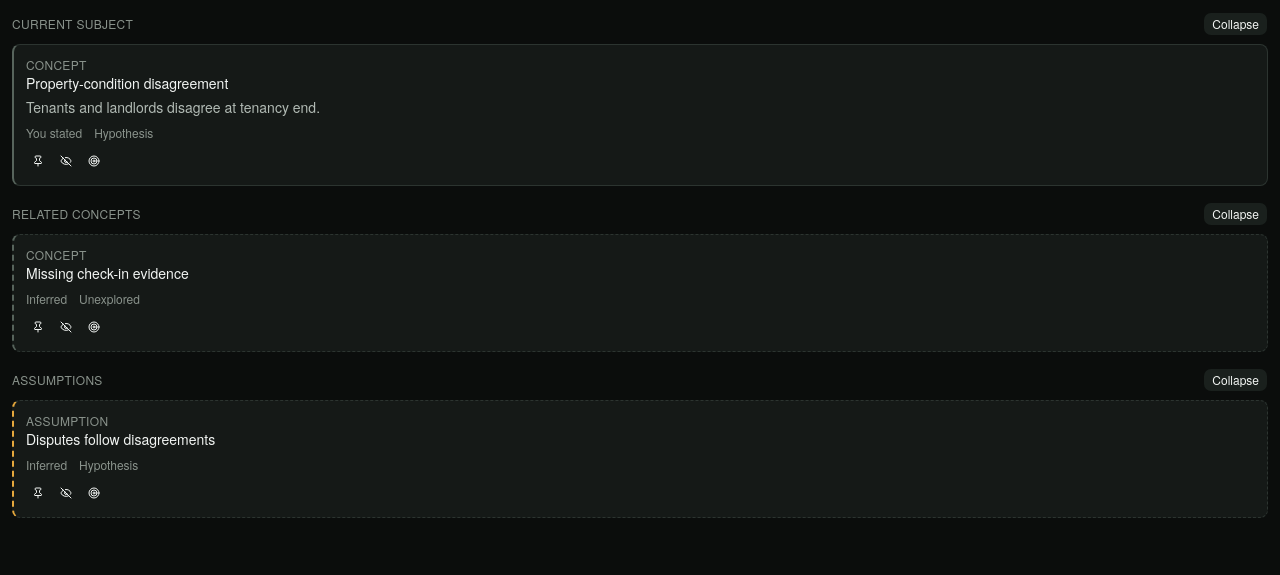
StructuredInspector view operations › re-centres on an object and restores the view with undo
Click the button named "Re-centre on Missing check-in evidence" at coordinates (94, 327), box 82,315 -> 106,339
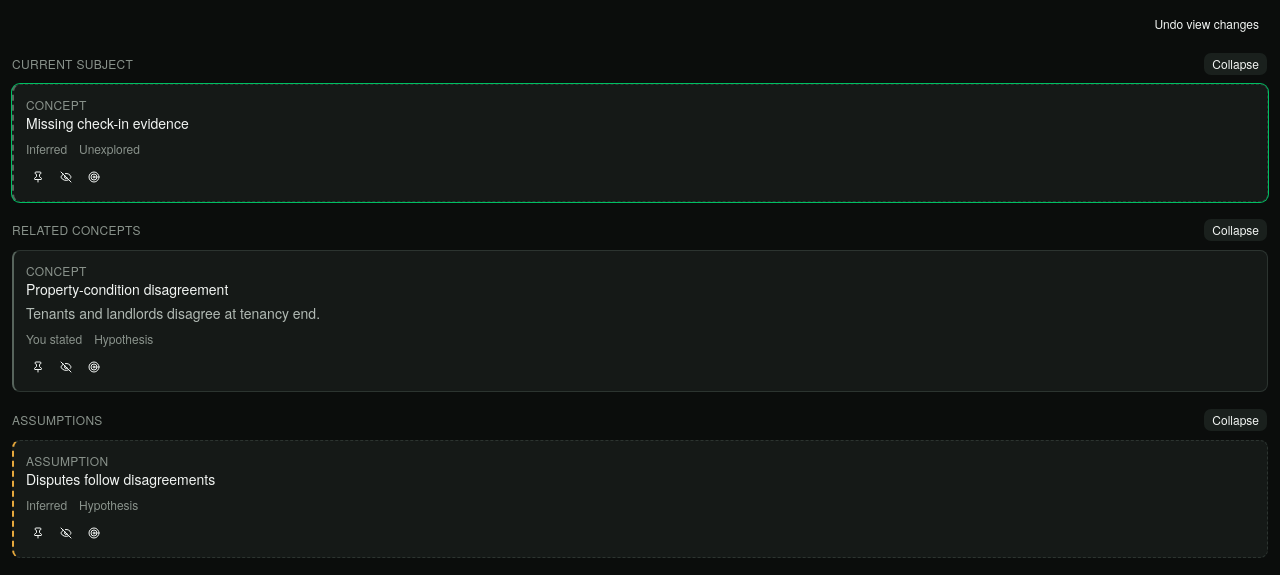
Check: the heading "Missing check-in evidence" is shown, box 26,113 -> 189,133
Click the button "Undo view changes" at coordinates (1207, 24), box 1146,12 -> 1268,36
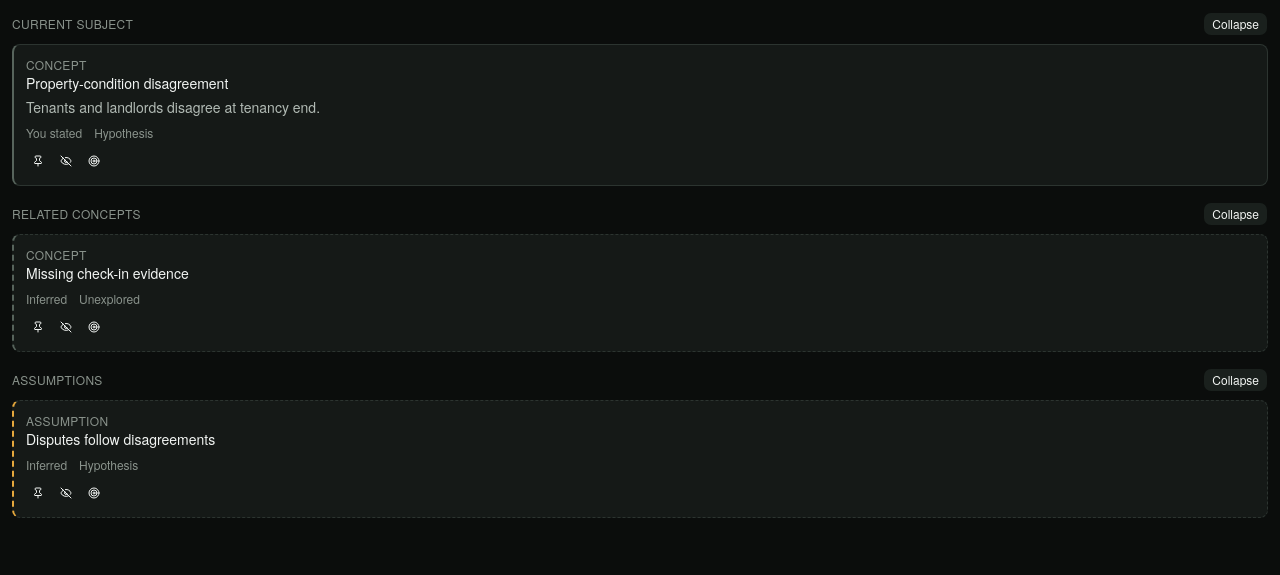
Check: the heading "Property-condition disagreement" is shown, box 26,73 -> 228,93
